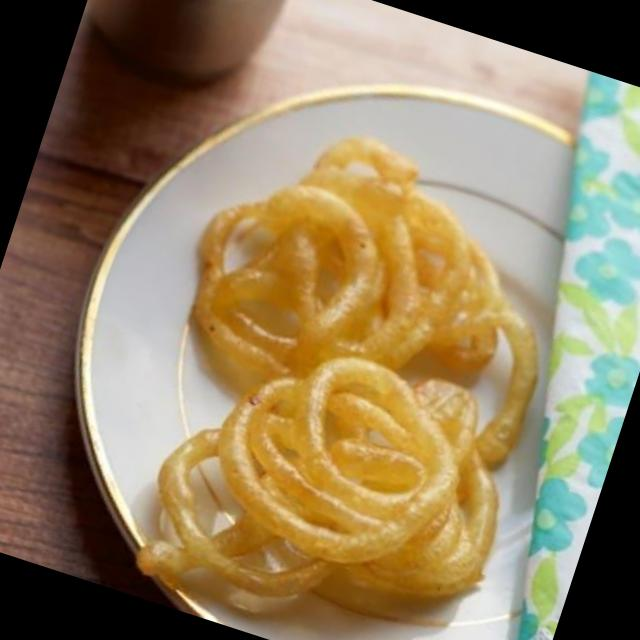jalebi: (109, 125, 559, 640)
